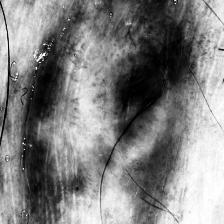Benign Marking or Mole: (30, 5, 197, 223)
